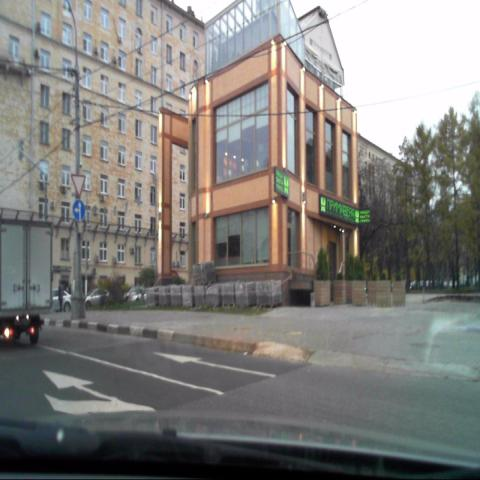4_1_5: (72, 199, 86, 220)
